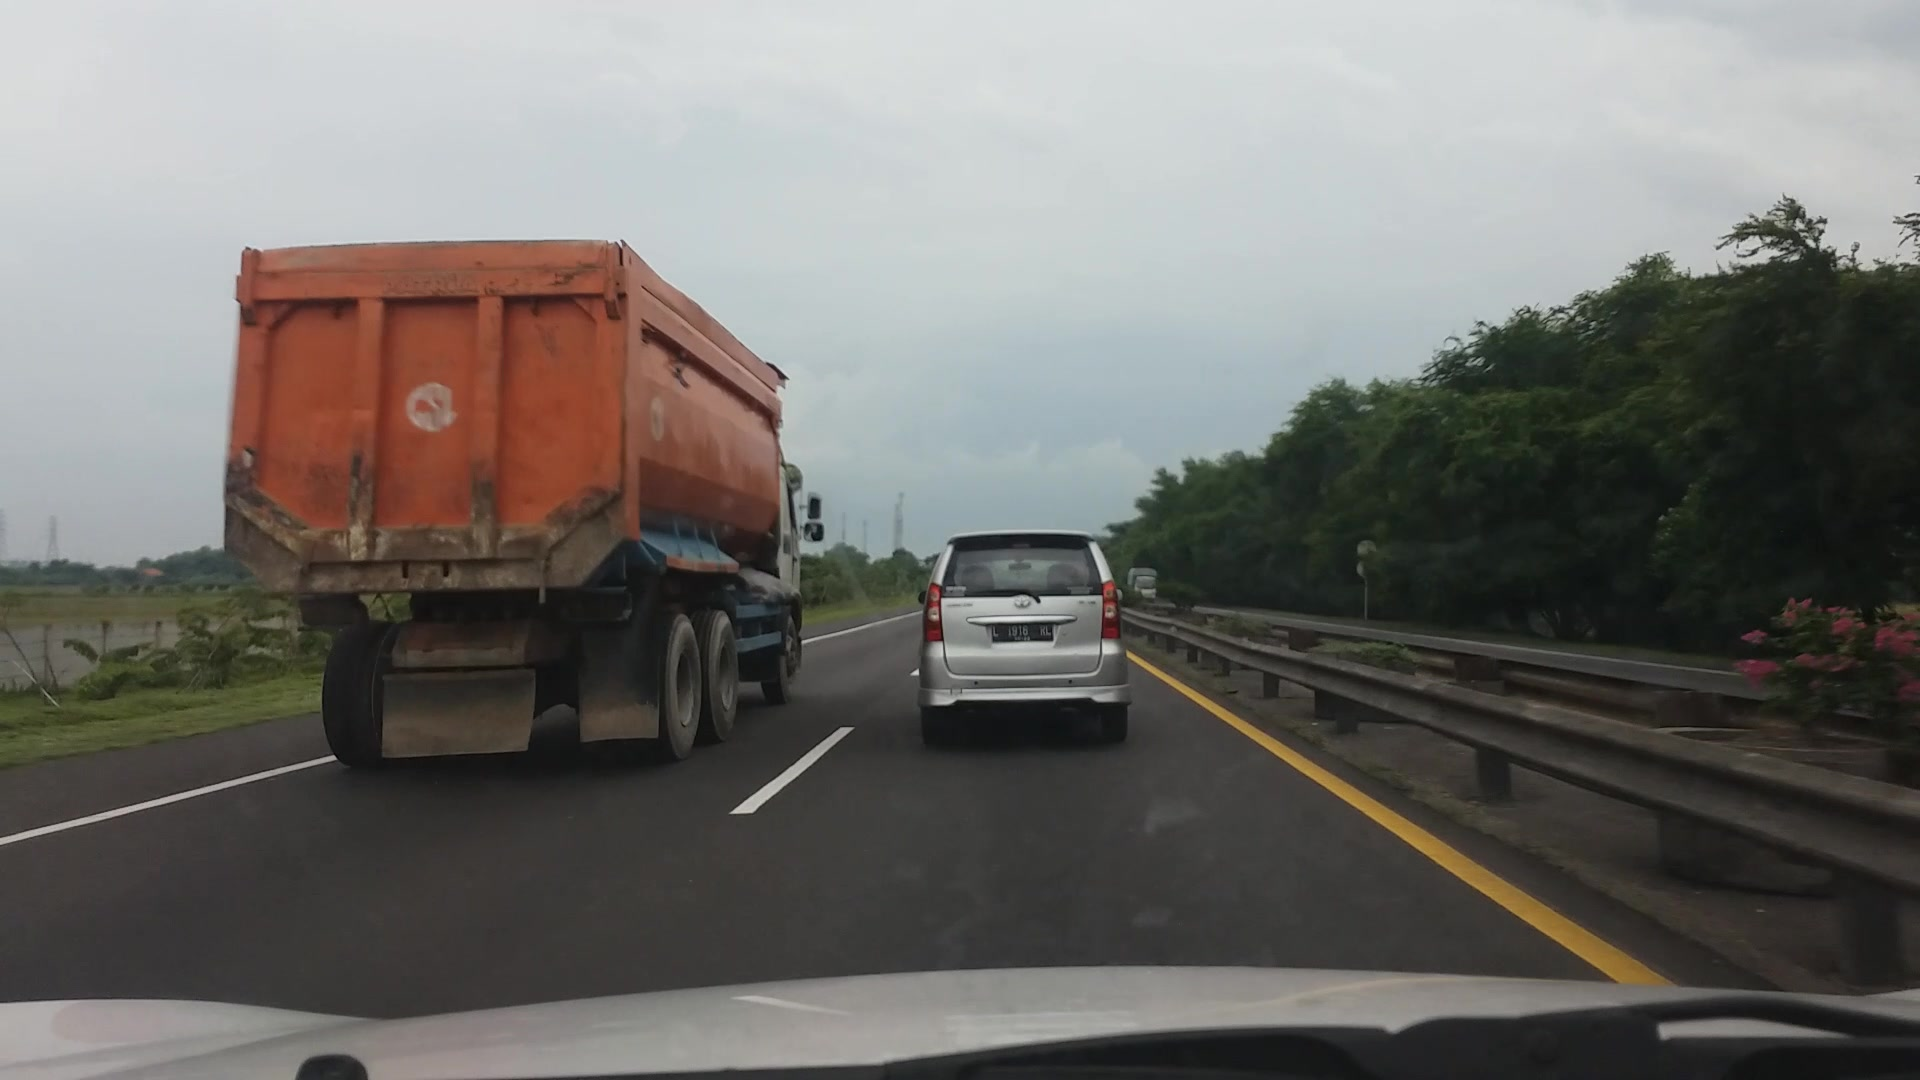plate_positive: (992, 622, 1054, 642)
